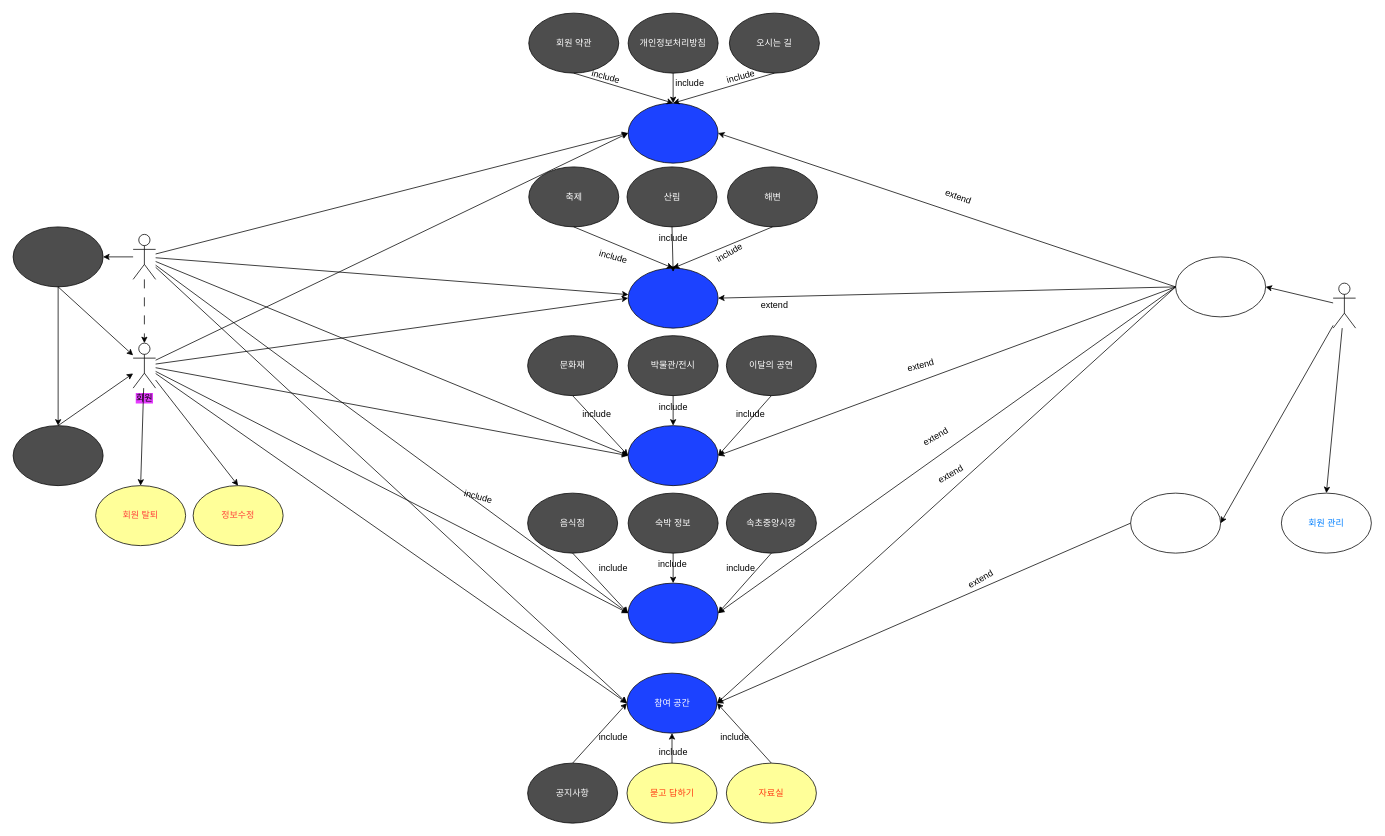
Image size: 1385x836. Some labels were removed from this diagram. The shapes that lost their labels are listed below. From the top down, each one's centre as x and y in pixels, then its label:
At pixel 672 132: "사이트 소개".
At pixel 57 256: "로그인".
At pixel 144 256: "비회원".
At pixel 672 297: "관광 명소".
At pixel 1220 286: "내용수정".
At pixel 1344 305: "관리자".
At pixel 57 455: "회원가입".
At pixel 672 455: "문화 예술".
At pixel 1175 522: "게시판 관리".
At pixel 672 612: "숙박 / 음식점".
